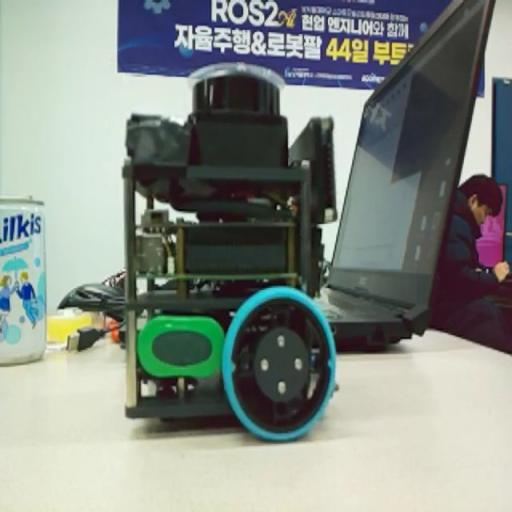pinky_63: (118, 56, 350, 445)
